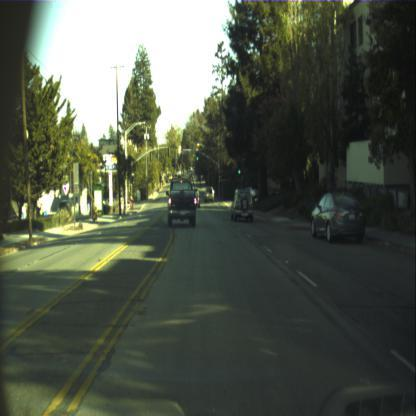Green: (195, 150, 199, 160), (237, 168, 240, 174), (218, 172, 220, 178)
Red: (180, 150, 183, 154)
